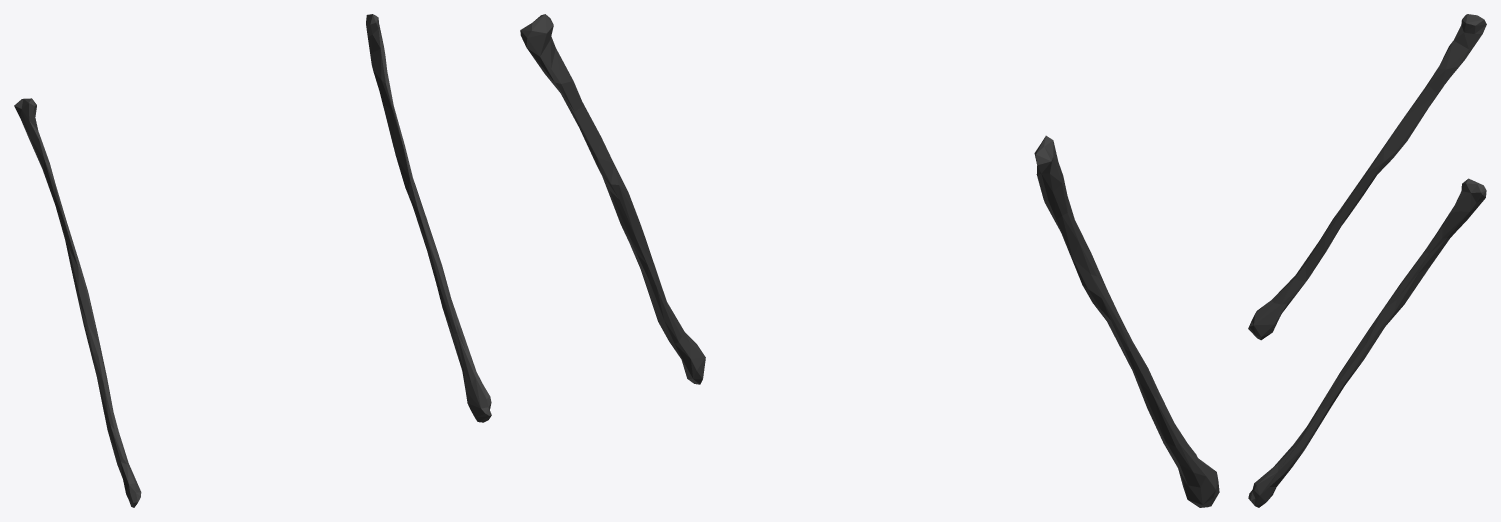
The model's file is Fibula.glb.
3 views of the same model, side by side, from view 1: azimuth 30°, elevation 25°; view 2: azimuth 150°, elevation 25°; view 3: azimuth 270°, elevation 25° (orthographic). The views are drawn at different scales.
Visible parts, largest first — view 1: Fibula; view 2: Fibula; view 3: Fibula.
Part boxes in pixels (x1,y1,x2,y2): Fibula: [14, 14, 491, 507]; Fibula: [520, 14, 1219, 507]; Fibula: [1248, 14, 1486, 507].
Bounding box in the file's own units: 0.00545 × 0.00475 × 0.00314.
Materials: 1 (1 with a texture image).
